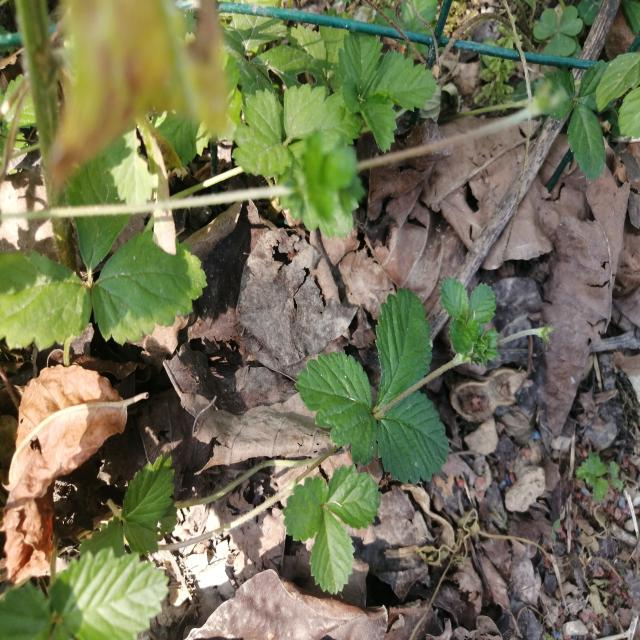Mock_strawberry: (291, 272, 477, 515)
